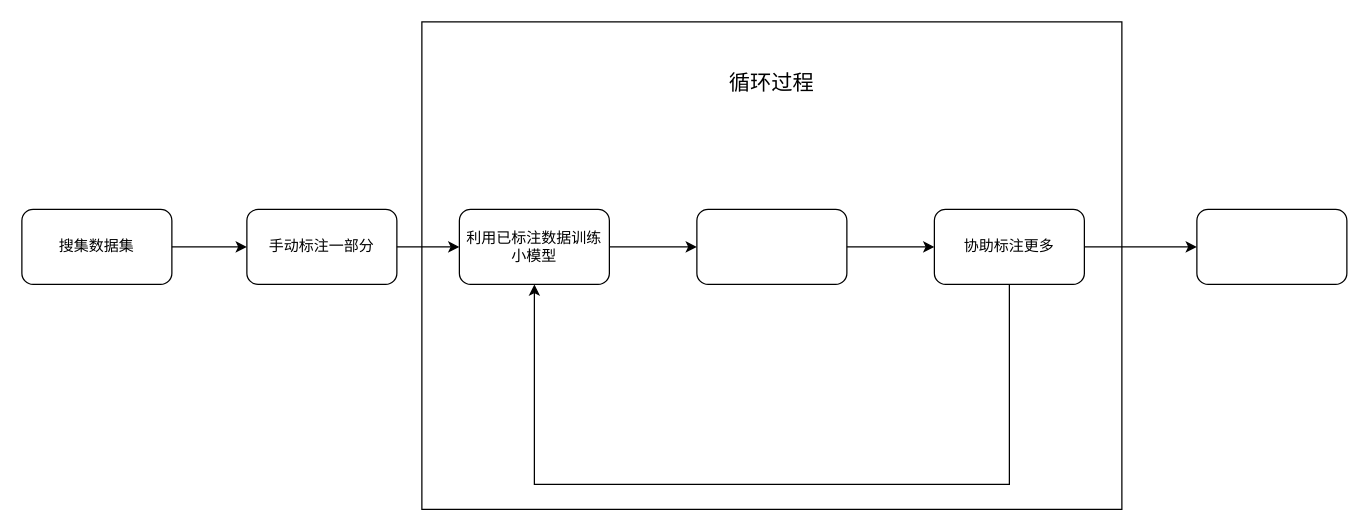
The diagram is 1369 pixels wide and 531 high, and some of its shapes have lost their labels. The shapes that lost their labels are listed below. From the top down, each one's centre as x and y in pixels, then its label:
(x=771, y=246): 搭建后端自动标注
(x=1271, y=246): 训练出最终模型
